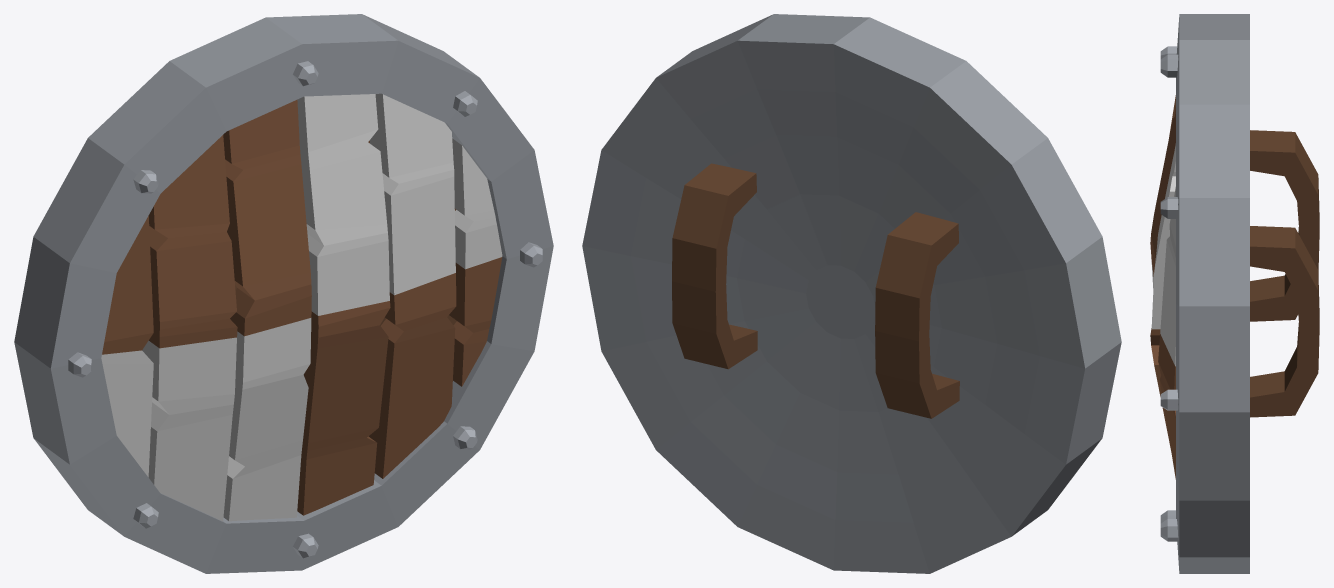
Rendered from Shield_Round_2.glb.
3 renders of one model, left to right at view 1: azimuth 30°, elevation 25°; view 2: azimuth 150°, elevation 25°; view 3: azimuth 270°, elevation 25°, orthographic. The views are drawn at different scales.
Visible parts, largest first — view 1: Steel, White, LightWood, LightSteel; view 2: Steel, DarkWood; view 3: Steel, DarkWood, White, LightWood, LightSteel.
Part boxes in pixels (x1,y1,x2,y2): Steel: (14, 14, 553, 573); White: (101, 93, 502, 521); LightWood: (102, 100, 502, 515); LightSteel: (68, 61, 542, 558); Steel: (582, 14, 1121, 573); DarkWood: (672, 163, 959, 418); Steel: (1176, 14, 1249, 573); DarkWood: (1250, 130, 1319, 417); White: (1151, 143, 1175, 366); LightWood: (1150, 95, 1175, 479); LightSteel: (1160, 46, 1178, 541).
Size of the model in its own units: 2 by 2 by 0.6037.
